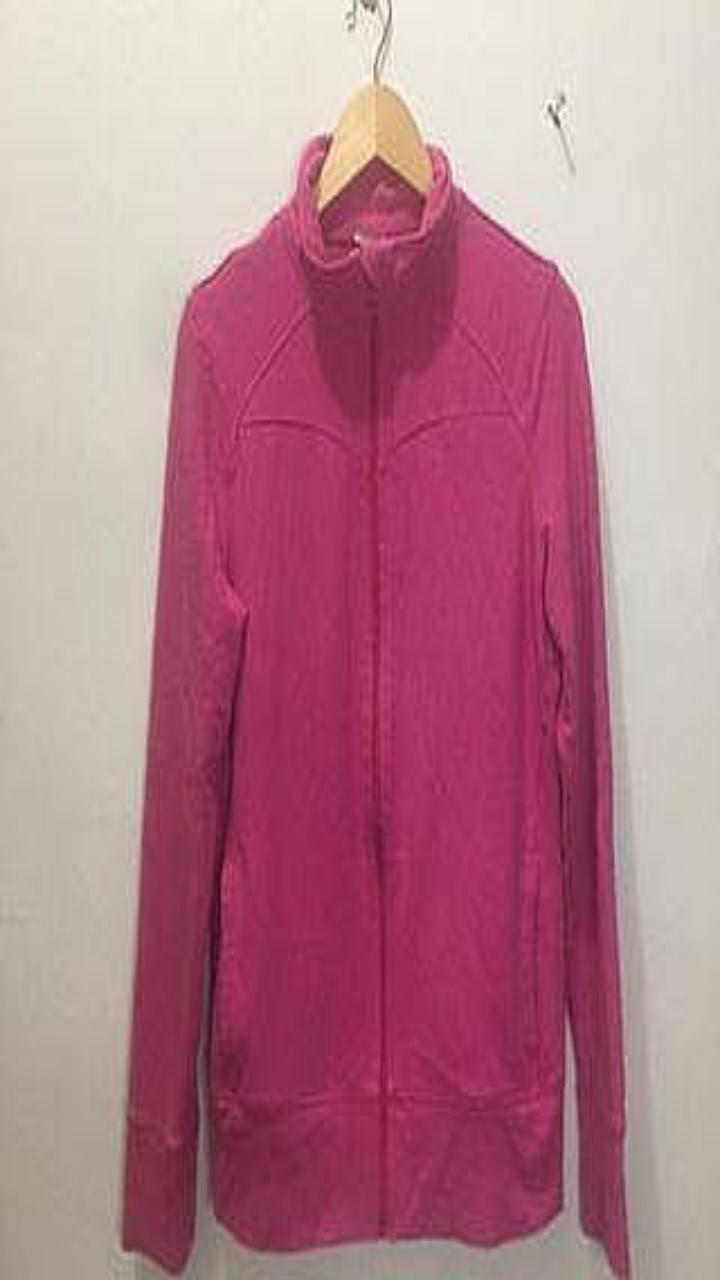Sports_Jacket: (121, 133, 629, 1276)
